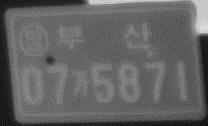0: (21, 65, 45, 108)
1: (174, 61, 191, 103)
5: (90, 60, 115, 105)
7: (142, 58, 168, 105), (46, 62, 69, 106)
8: (117, 63, 143, 103)
가: (71, 68, 91, 101)
부산_D: (58, 21, 152, 52)
영: (18, 22, 52, 58)
